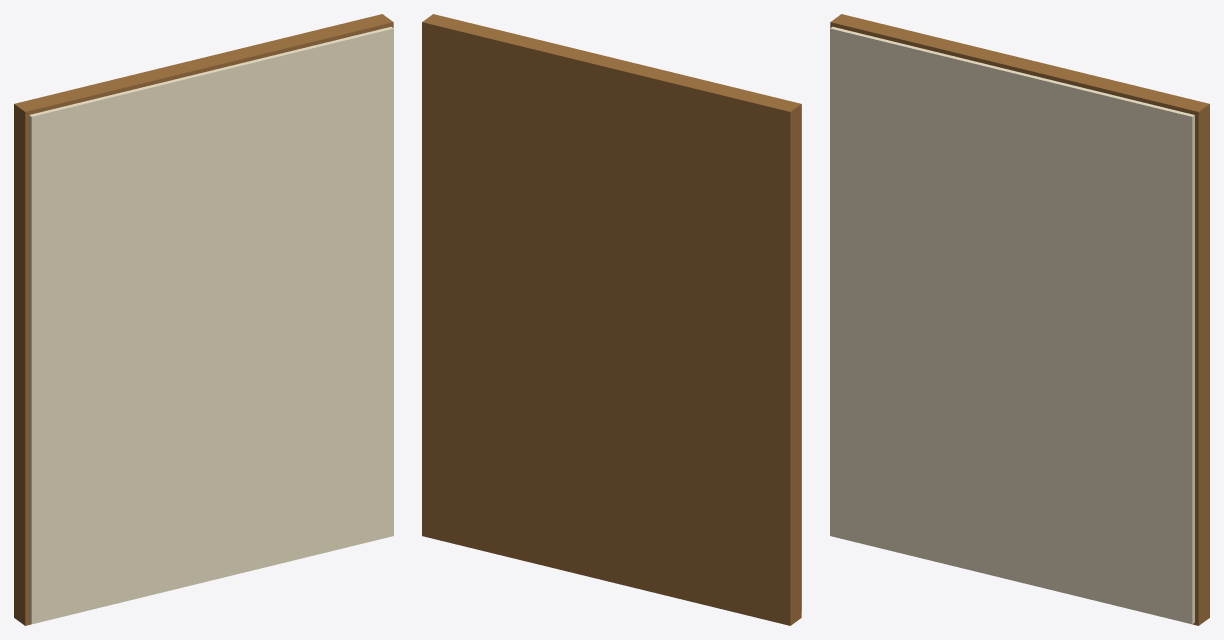
Rendered from letter.glb.
The picture shows the model from 3 angles, left to right: view 1: azimuth 30°, elevation 25°; view 2: azimuth 150°, elevation 25°; view 3: azimuth 330°, elevation 25°; orthographic projection.
Parts seen in each view (by area): view 1: sheet-face, sheet-corrugation; view 2: sheet-corrugation; view 3: sheet-face, sheet-corrugation.
Part boxes in pixels (<box>): sheet-face: <box>29,26,393,624</box>; sheet-corrugation: <box>14,14,393,625</box>; sheet-corrugation: <box>422,14,801,625</box>; sheet-face: <box>830,26,1194,624</box>; sheet-corrugation: <box>830,14,1209,625</box>.
Bounding box in the file's own units: 2.1 × 2.8 × 0.1425.
